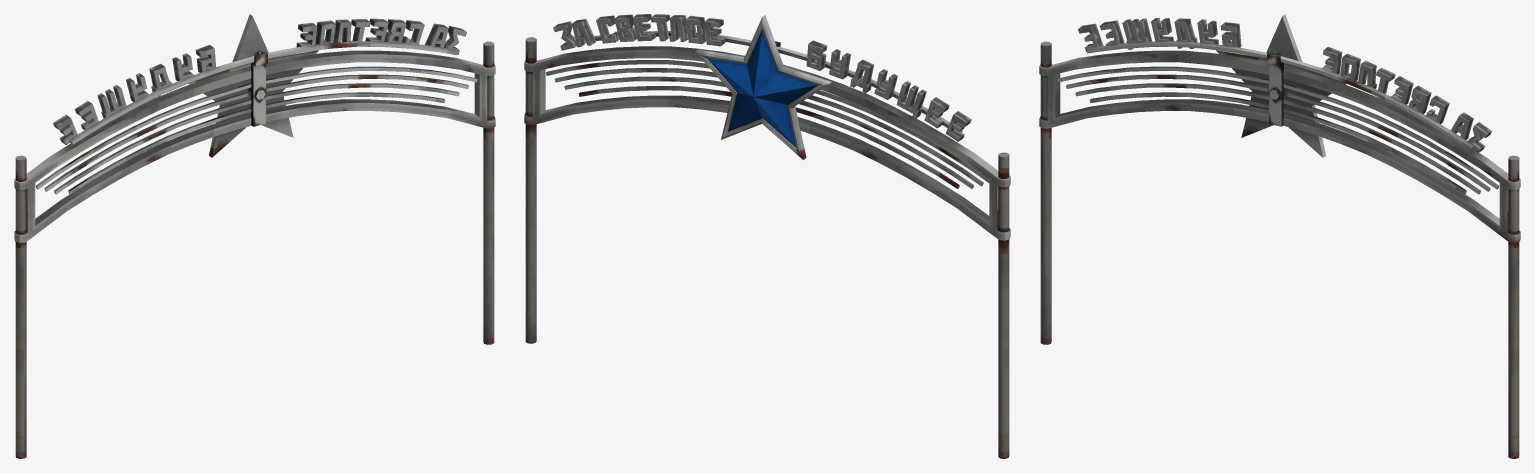
The picture shows the model from 3 angles, left to right: view 1: azimuth 30°, elevation 25°; view 2: azimuth 150°, elevation 25°; view 3: azimuth 330°, elevation 25°; orthographic projection.
Visible parts, largest first — view 1: body0_model0_lod0_mesh0; view 2: body0_model0_lod0_mesh0; view 3: body0_model0_lod0_mesh0.
Boxes of the visible parts, bbox=[...] form: body0_model0_lod0_mesh0: bbox=[14, 14, 495, 458]; body0_model0_lod0_mesh0: bbox=[524, 14, 1010, 458]; body0_model0_lod0_mesh0: bbox=[1039, 14, 1520, 458].
Size of the model in its own units: 512 by 389 by 38.31.
Materials: 1 (1 with a texture image).
